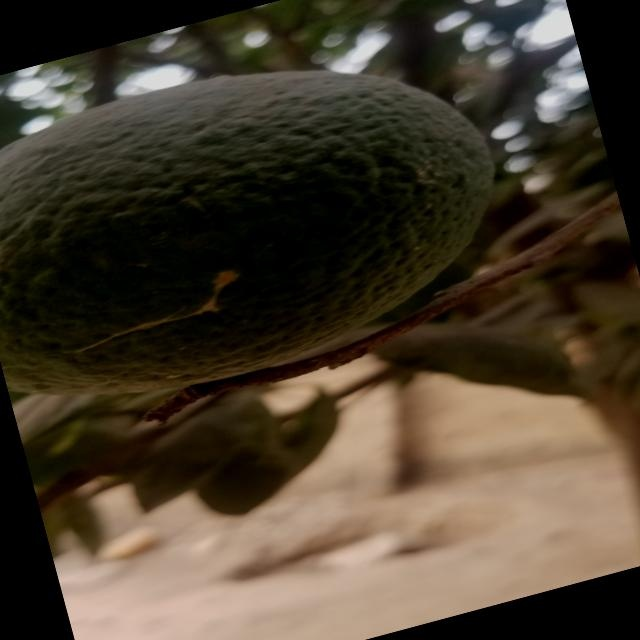agrume: (0, 12, 529, 431)
